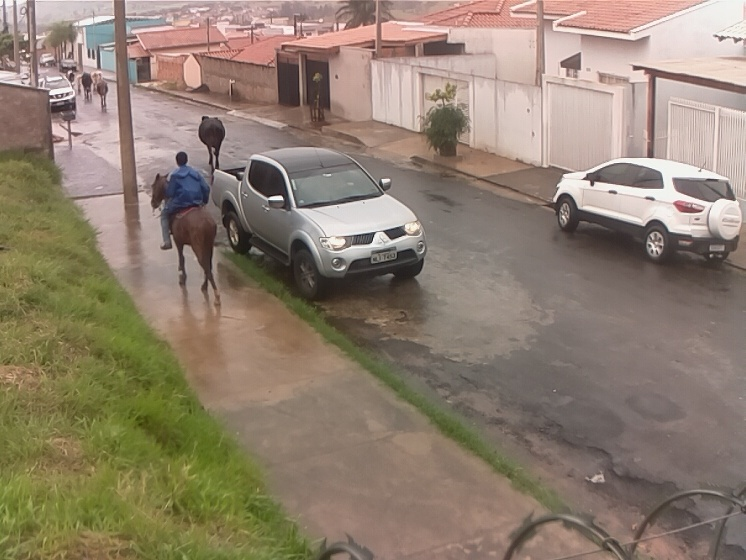person: (158, 149, 215, 252)
